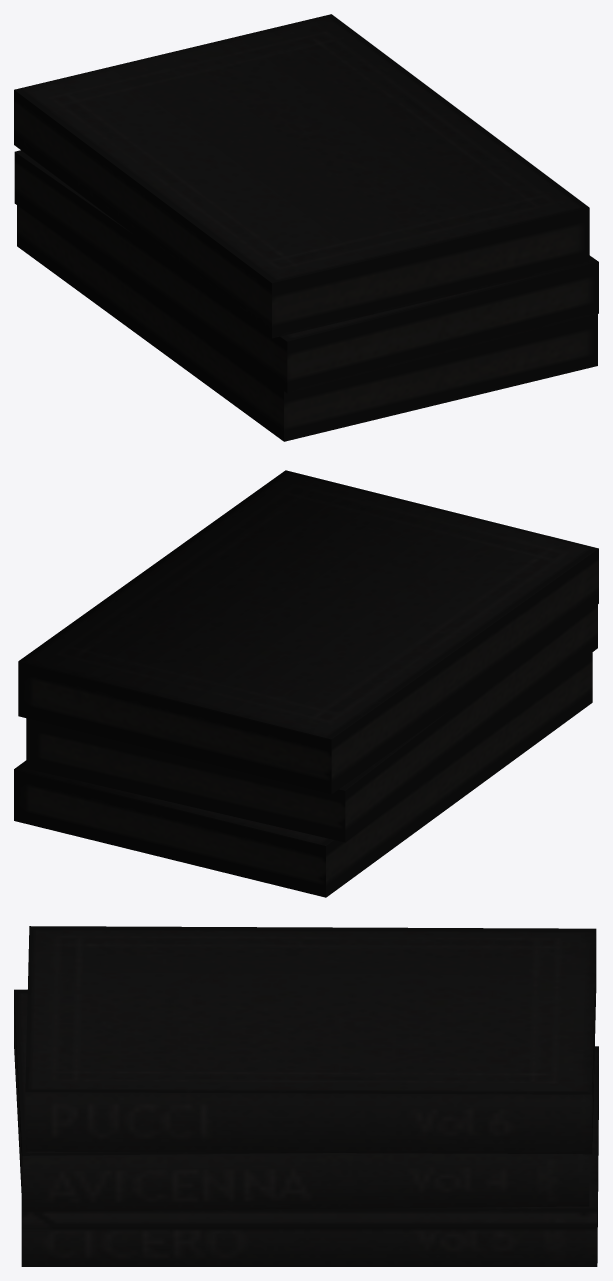
Rendered from accessories_book_stack04_lod0.glb.
The picture shows the model from 3 angles, top to bottom: view 1: azimuth 30°, elevation 25°; view 2: azimuth 150°, elevation 25°; view 3: azimuth 270°, elevation 25°; orthographic projection. The views are drawn at different scales.
Parts seen in each view (by area): view 1: surf0; view 2: surf0; view 3: surf0.
Boxes of the visible parts, x1,y1,x2,y2 form: surf0: [14, 14, 598, 441]; surf0: [14, 470, 598, 897]; surf0: [14, 926, 598, 1266].
Size of the model in its own units: 8.59 by 4 by 12.4.
